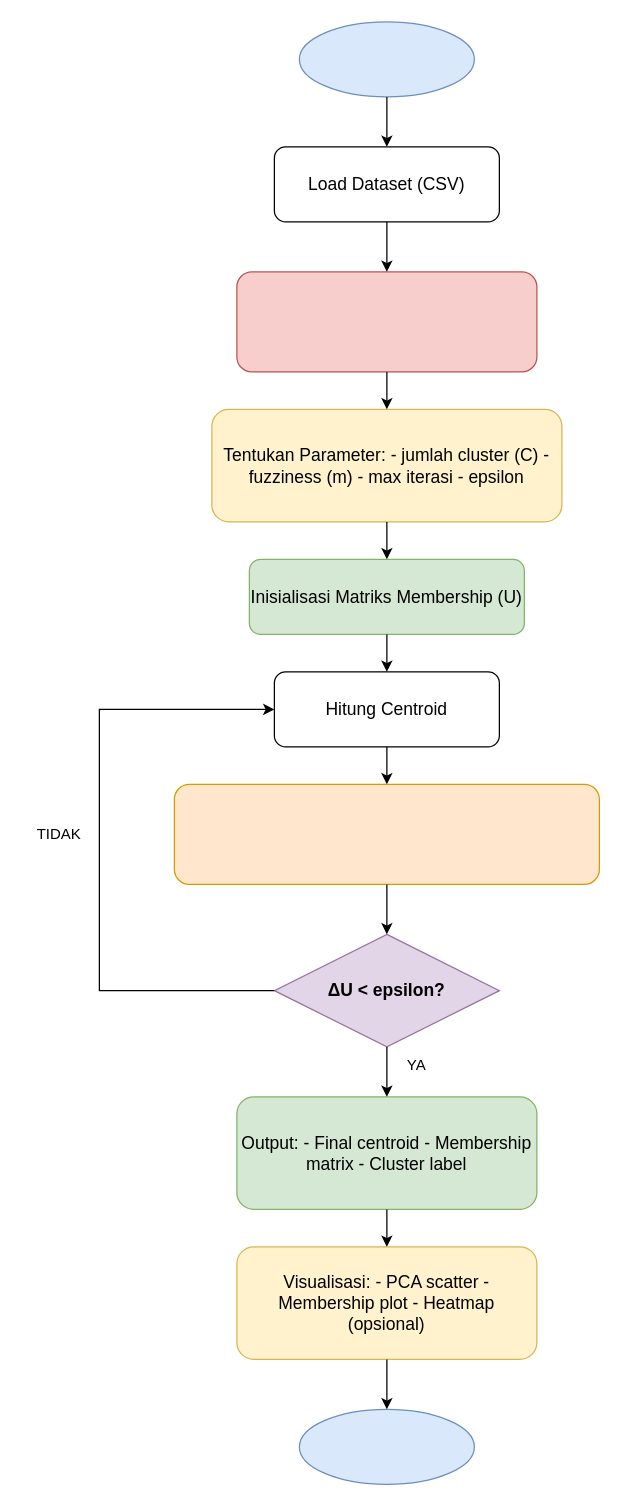
The diagram is 621 pixels wide and 1506 high, and some of its shapes have lost their labels. Here are the shapes that lost their labels. From the top down, the centre of each, then its label:
At (x=386, y=59): "Mulai".
At (x=386, y=321): "Preprocessing: - Normalisasi - Split Train/Test".
At (x=386, y=833): "Update Membership (U) berdasarkan jarak Euclidean".
At (x=386, y=1446): "Selesai".
